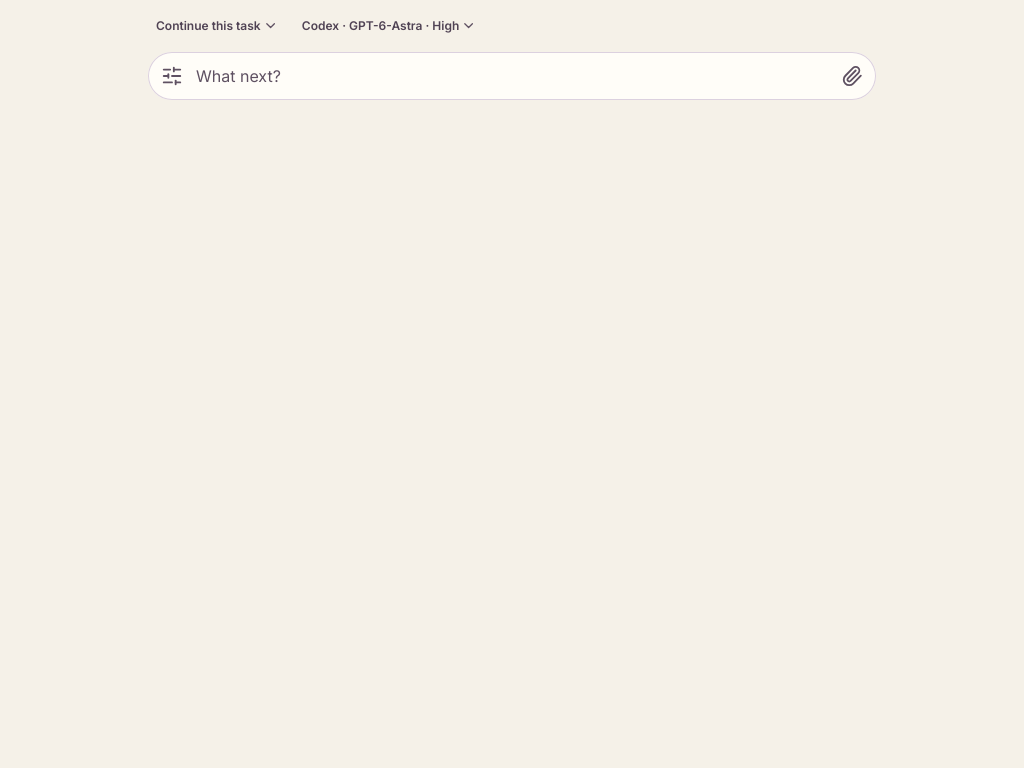
Test: clears a carry-out notice when the task changes
The image size is (1024, 768).
Click the button "Continue this task" at (217, 26), box x1=148 y1=8 x2=286 y2=44
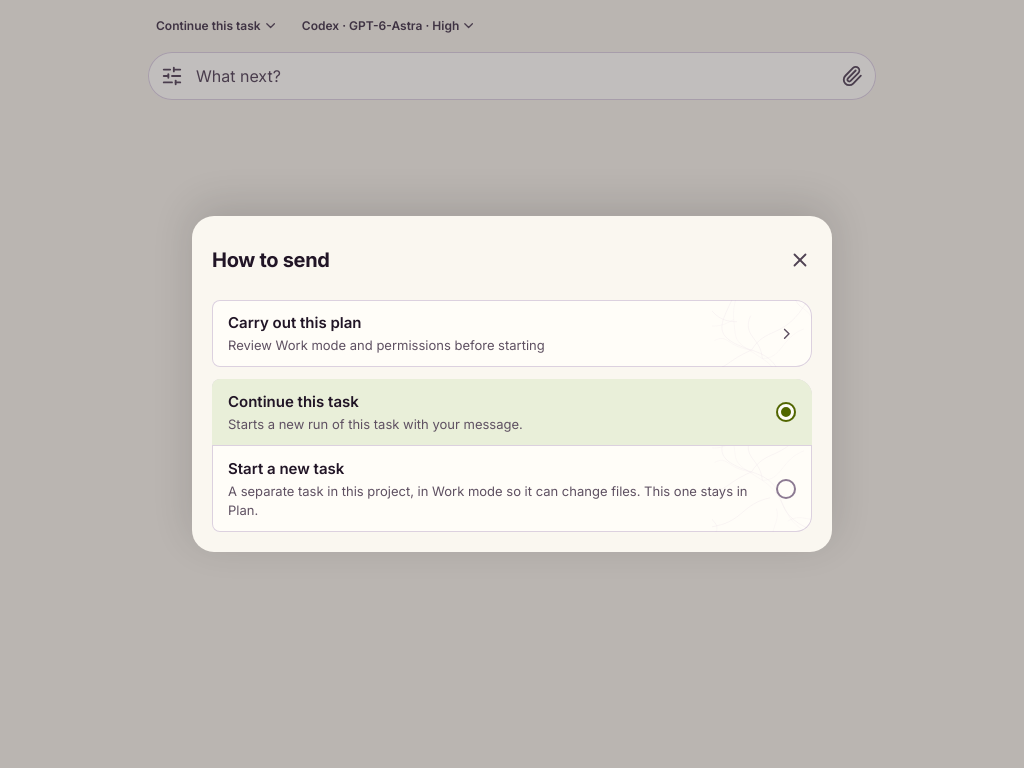
Click the button "Carry out this plan" at (295, 323), box x1=212 y1=300 x2=812 y2=367
Wait 500 ms
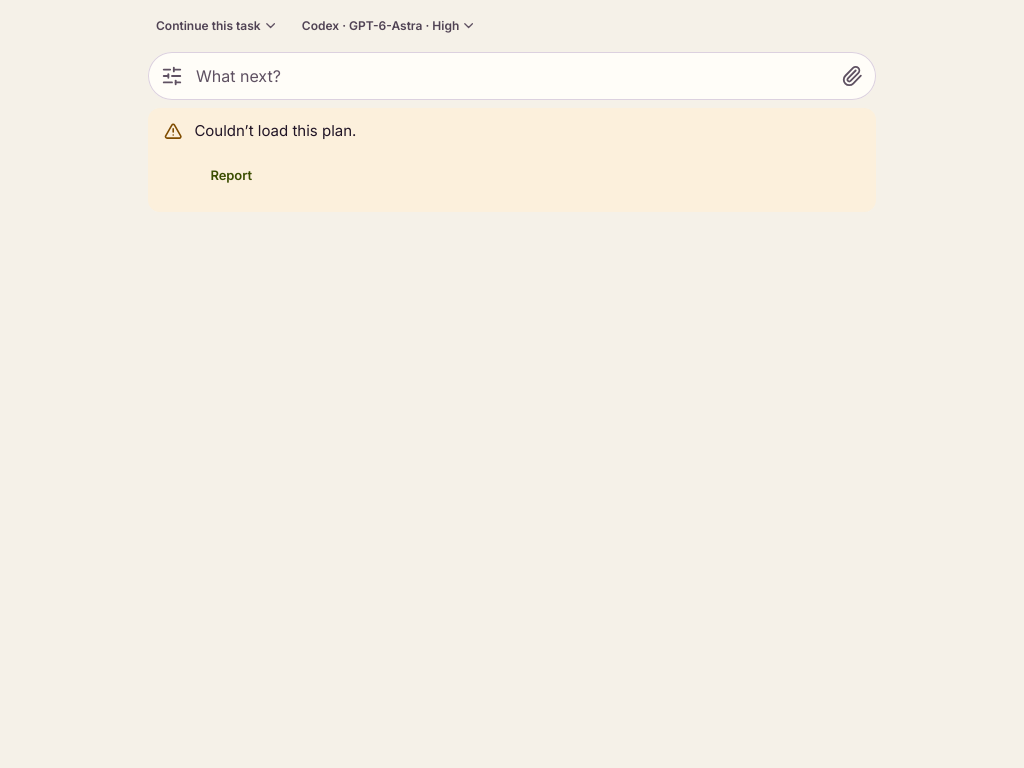
Expected: the text "Couldn’t load this plan." is shown, x1=194 y1=121 x2=356 y2=140
